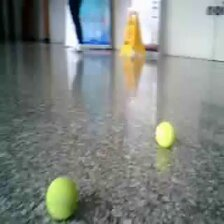tennis: (44, 176, 81, 221), (155, 121, 177, 148)
